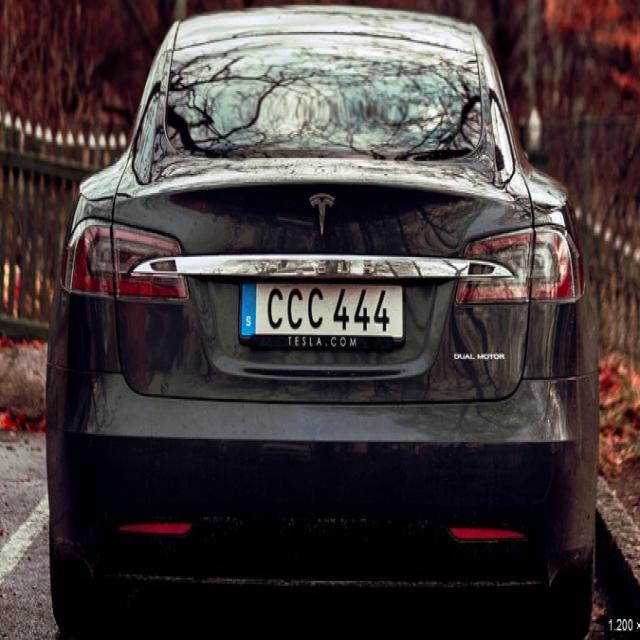license_plate-34Td: (241, 282, 404, 346)
